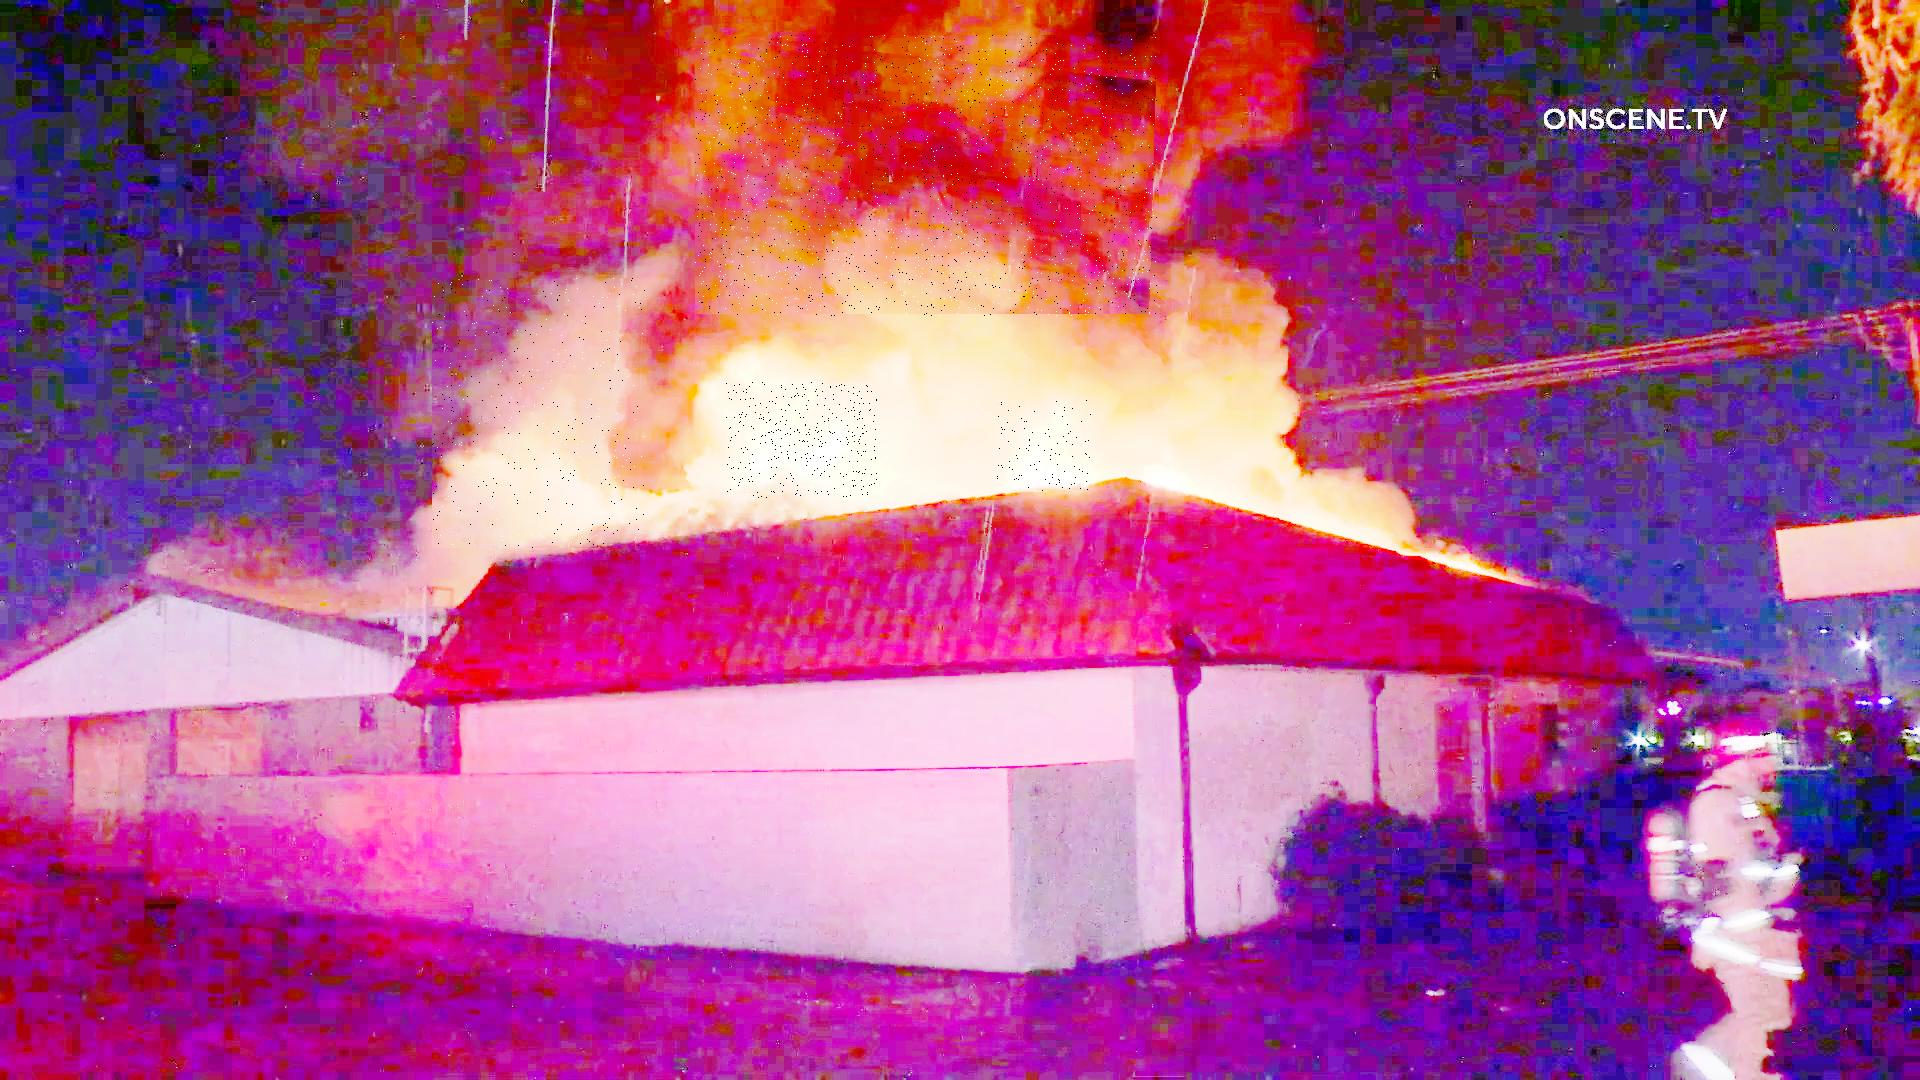fire: (725, 382, 877, 498), (997, 400, 1093, 491)
smoke: (696, 36, 1159, 316), (433, 278, 646, 549)
